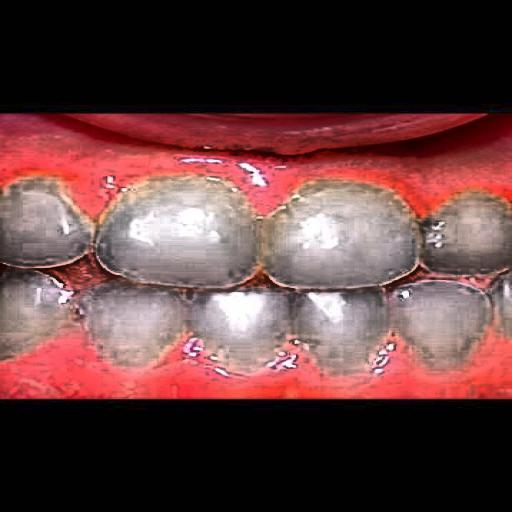Healthy: (1, 149, 512, 364)
